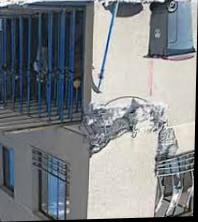crack: (106, 97, 150, 107)
damage: (78, 100, 180, 162)
